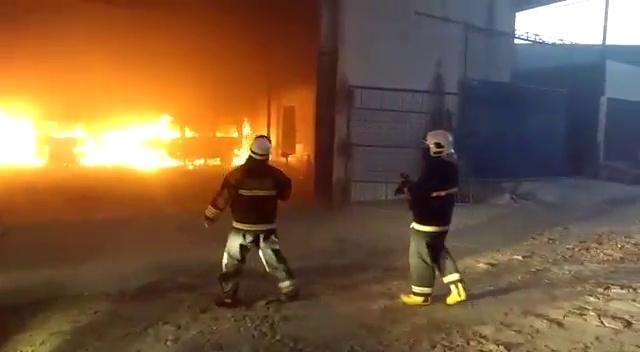fire: (82, 125, 175, 172), (2, 111, 49, 165)
